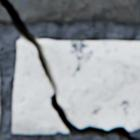broken_brick: (38, 38, 139, 129), (12, 38, 68, 132), (10, 0, 139, 22), (0, 5, 10, 21)
crack: (0, 0, 139, 139)
